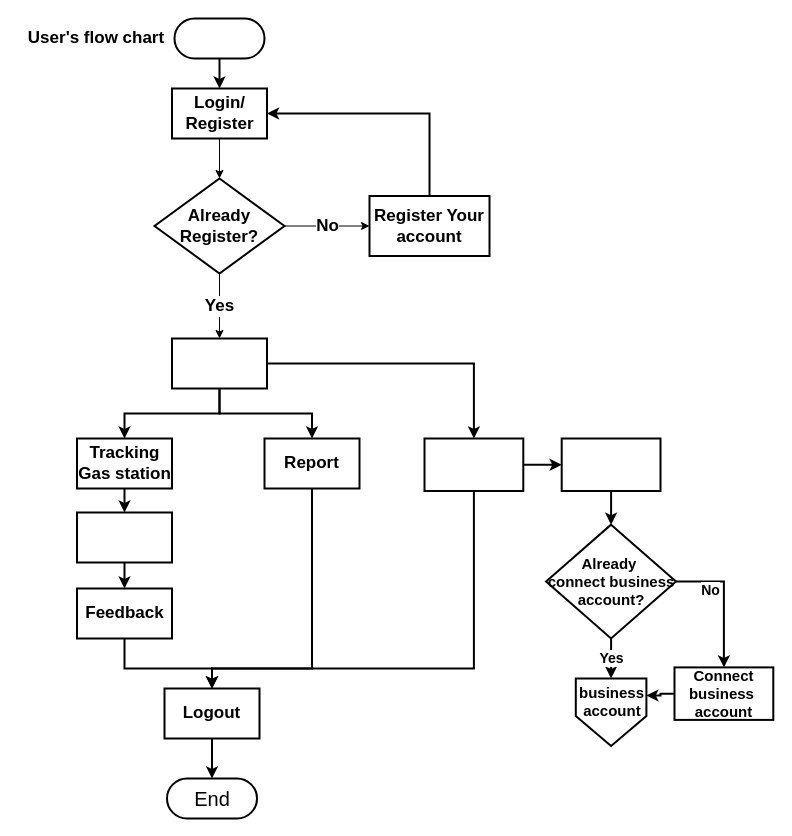
This 792x836 diagram has some shape labels left out. Here are the shapes that lost their labels. From the top down, the box of each, then its label:
(173, 17, 265, 59): Start
(170, 337, 268, 389): Dashboard
(423, 437, 524, 492): Edit Profile
(560, 437, 661, 492): Change to business account
(76, 511, 172, 563): Booking
